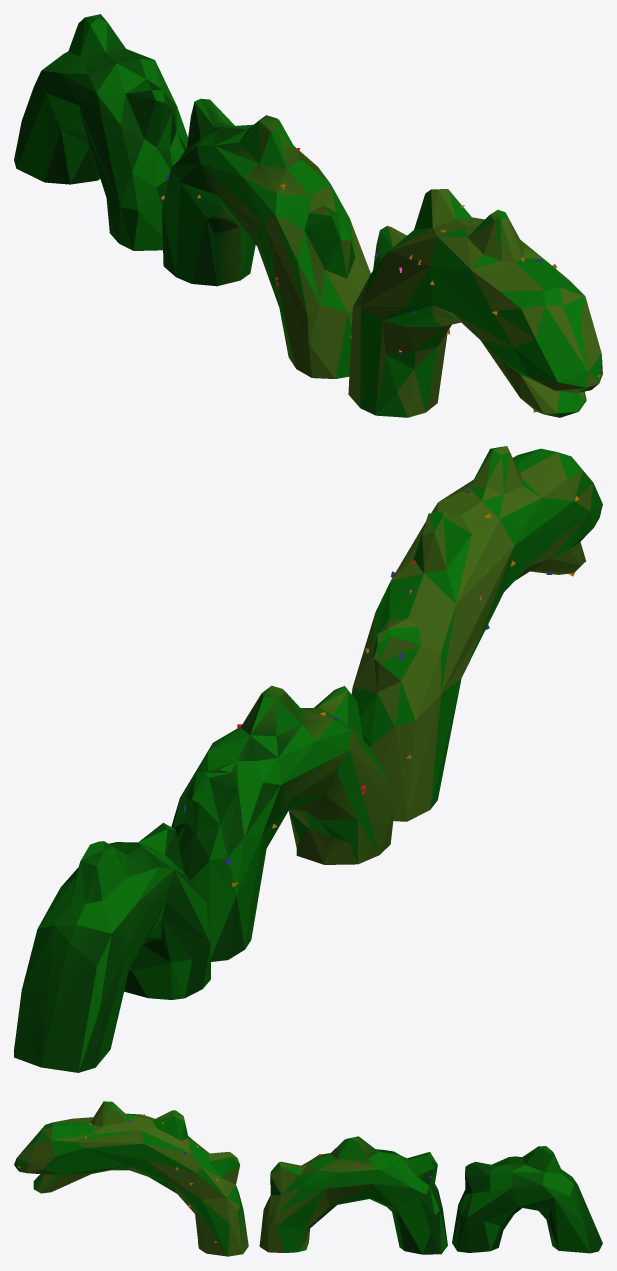
Rendered from HWN20_DragonBush.glb.
3 renders of one model, top to bottom at view 1: azimuth 30°, elevation 25°; view 2: azimuth 150°, elevation 25°; view 3: azimuth 270°, elevation 25°, orthographic. The views are drawn at different scales.
Parts seen in each view (by area): view 1: HWN20_DragonBush; view 2: HWN20_DragonBush; view 3: HWN20_DragonBush.
Boxes of the visible parts, x1,y1,x2,y2 form: HWN20_DragonBush: (14,14,602,417); HWN20_DragonBush: (14,446,602,1072); HWN20_DragonBush: (14,1101,602,1256).
Size of the model in its own units: 2.01 by 5.31 by 19.57.
Materials: 2 (2 with a texture image).
